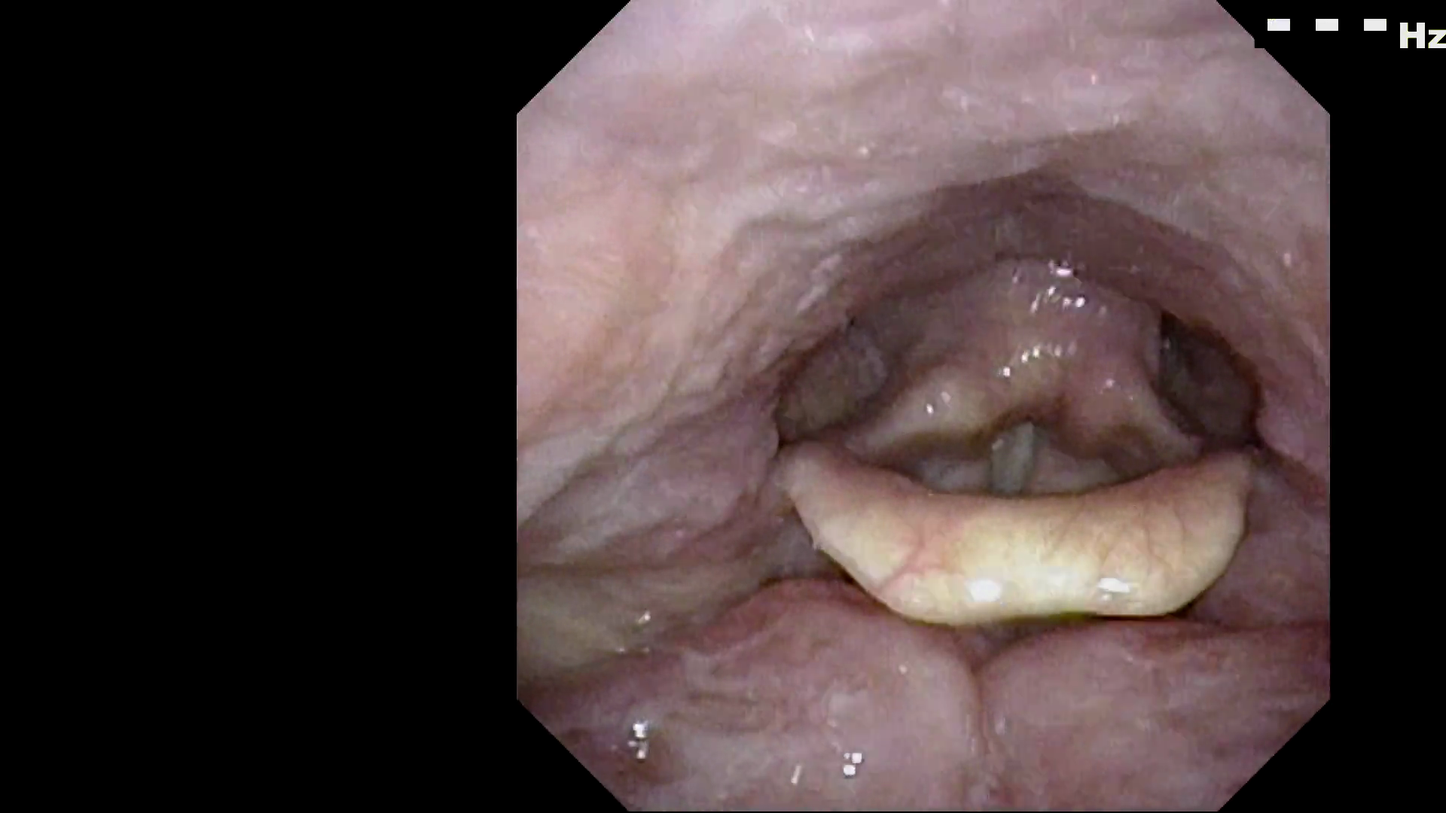epiglottis: (718, 414, 1302, 662)
trachea: (927, 368, 1094, 556)
